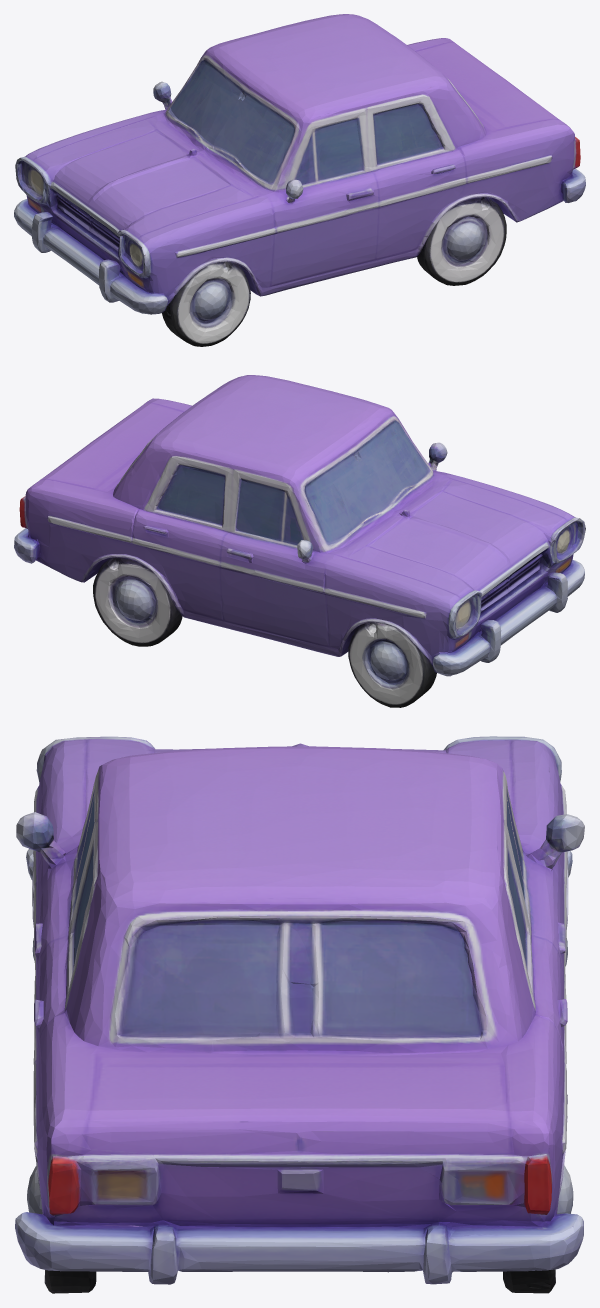
File: grandma_sedan.glb
3 renders of one model, top to bottom at view 1: azimuth 30°, elevation 25°; view 2: azimuth 150°, elevation 25°; view 3: azimuth 270°, elevation 25°, orthographic. The views are drawn at different scales.
Parts seen in each view (by area): view 1: geometry_0; view 2: geometry_0; view 3: geometry_0.
Boxes of the visible parts, x1=… form: geometry_0: x1=14, y1=14, x2=585, y2=346; geometry_0: x1=14, y1=375, x2=585, y2=707; geometry_0: x1=15, y1=736, x2=584, y2=1293.
Size of the model in its own units: 0.9988 by 0.4165 by 0.5372.
Materials: 1 (1 with a texture image).
